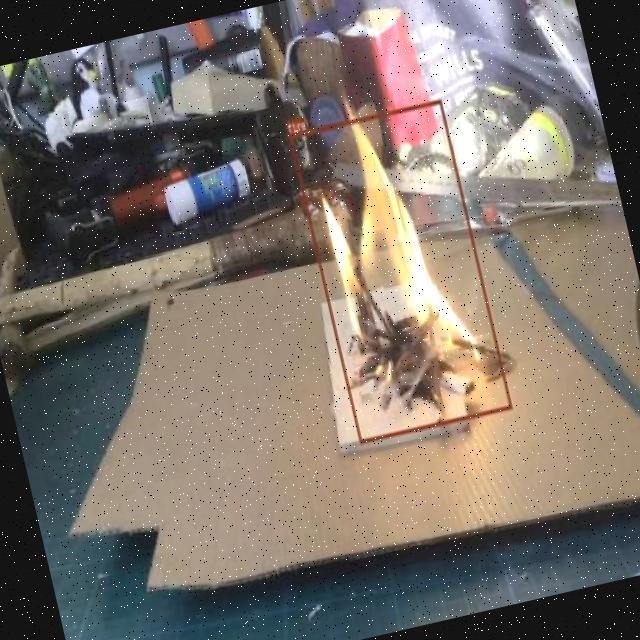fire: (287, 98, 512, 444)
